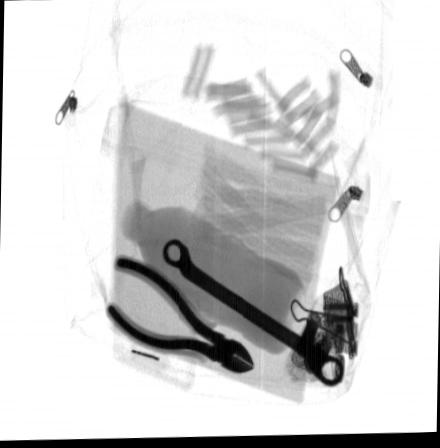Pliers: (100, 253, 256, 376)
Wrench: (159, 239, 345, 389)
